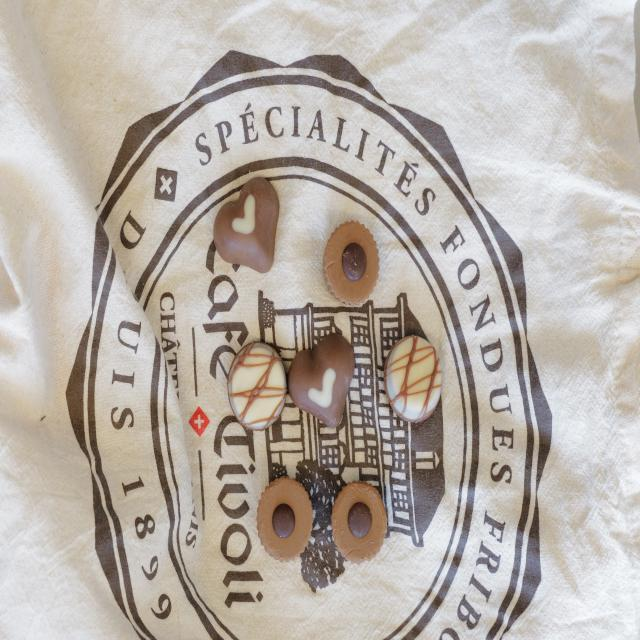Creme_brulee: (228, 341, 288, 431), (384, 335, 444, 423)
Noblesse: (324, 221, 380, 307), (330, 481, 388, 564), (257, 478, 314, 560)
Passion_au_lait: (212, 175, 280, 273), (289, 333, 357, 429)
